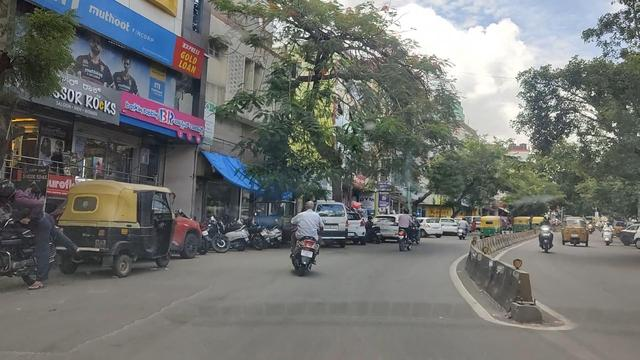LMV: (64, 181, 180, 287), (3, 191, 57, 293), (279, 201, 331, 277)
RoadDamages: (15, 267, 215, 359)
